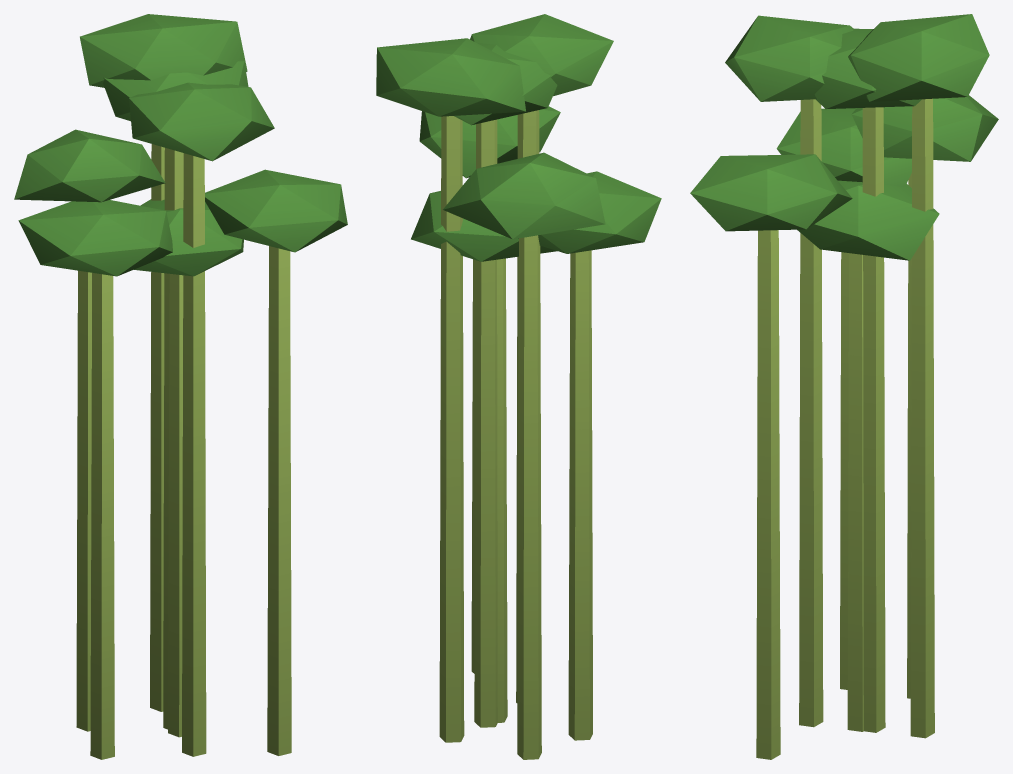
File: tree_B.glb
The picture shows the model from 3 angles, left to right: view 1: azimuth 30°, elevation 25°; view 2: azimuth 150°, elevation 25°; view 3: azimuth 270°, elevation 25°; orthographic projection. The views are drawn at different scales.
Visible parts, largest first — view 1: tree_B; view 2: tree_B; view 3: tree_B.
Boxes of the visible parts, x1,y1,x2,y2 form: tree_B: (14, 14, 347, 759); tree_B: (376, 14, 661, 759); tree_B: (690, 14, 998, 759).
Size of the model in its own units: 0.8162 by 2.03 by 0.8103.
Materials: 1 (1 with a texture image).
